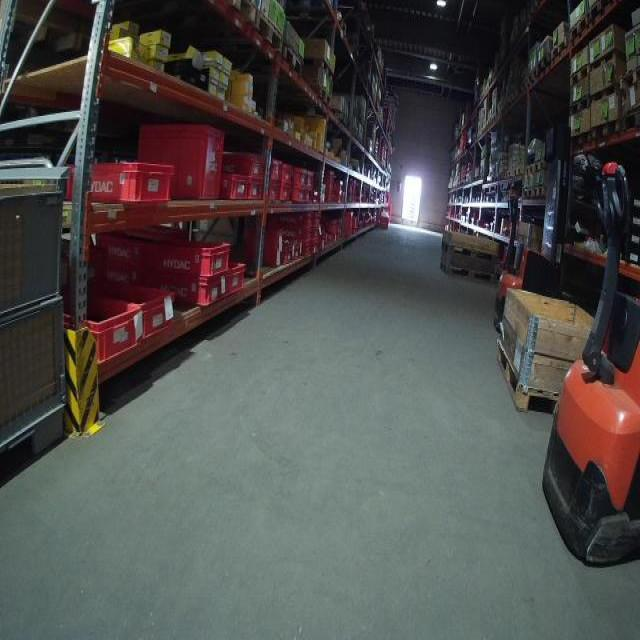pallet: (492, 342, 560, 417), (438, 262, 497, 285), (440, 240, 498, 263), (256, 9, 282, 60), (591, 46, 626, 73), (591, 81, 624, 109), (303, 56, 335, 83), (282, 41, 304, 79), (229, 0, 257, 28), (592, 119, 621, 142), (568, 15, 589, 45), (568, 93, 590, 119), (569, 63, 591, 88), (310, 86, 332, 109), (591, 1, 611, 25), (569, 131, 591, 152), (551, 39, 567, 63), (624, 69, 640, 89), (622, 114, 640, 130), (534, 159, 545, 174), (533, 188, 545, 198), (525, 164, 534, 176), (513, 166, 522, 177), (523, 189, 532, 199)
pallet_truck: (537, 163, 639, 573), (492, 180, 560, 341)
small_load_carrier: (39, 286, 145, 374), (131, 123, 222, 201), (60, 159, 175, 212), (96, 280, 180, 344), (95, 225, 185, 279), (145, 238, 233, 277), (177, 268, 222, 325), (226, 142, 268, 182), (211, 168, 247, 206), (250, 249, 289, 283), (257, 224, 295, 256), (246, 181, 270, 204), (289, 162, 305, 189), (263, 186, 286, 204), (266, 160, 283, 184), (288, 214, 319, 227), (224, 267, 240, 292), (280, 183, 298, 204), (295, 224, 317, 241), (299, 241, 320, 257), (291, 187, 308, 206), (282, 162, 296, 183), (302, 167, 315, 182)
stillage: (2, 173, 78, 488)
